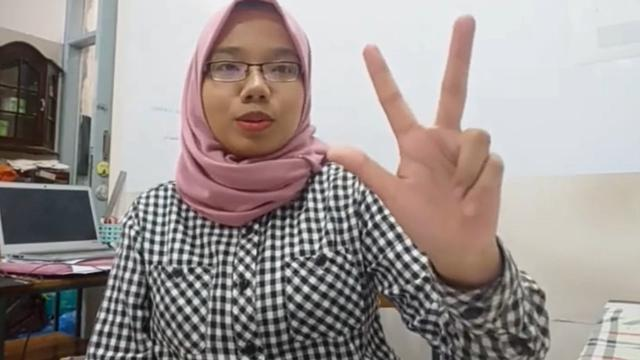K: (324, 14, 508, 252)
